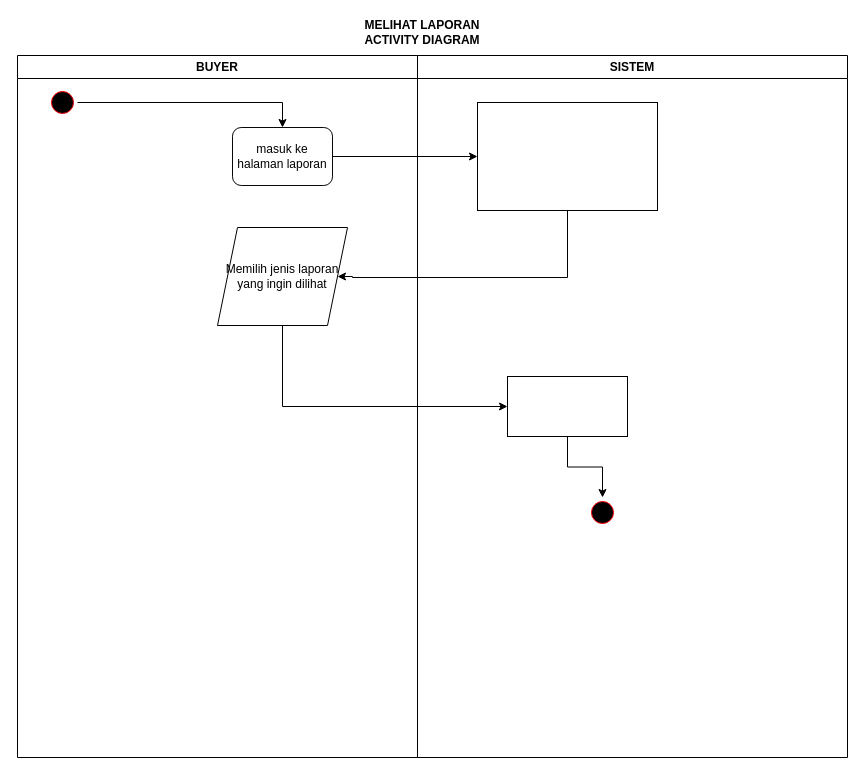
This 865x775 diagram has some shape labels left out. The shapes that lost their labels are listed below. From the top down, each one's centre as x and y in pixels, then its label:
At point 567,156: "Sistem menampilkan halaman laporan".
At point 567,406: "Menampilkan jenis laporan yang dipilih".
